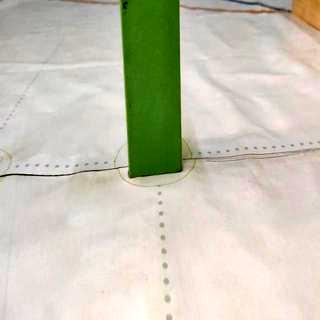greenbox: (120, 0, 183, 176)
